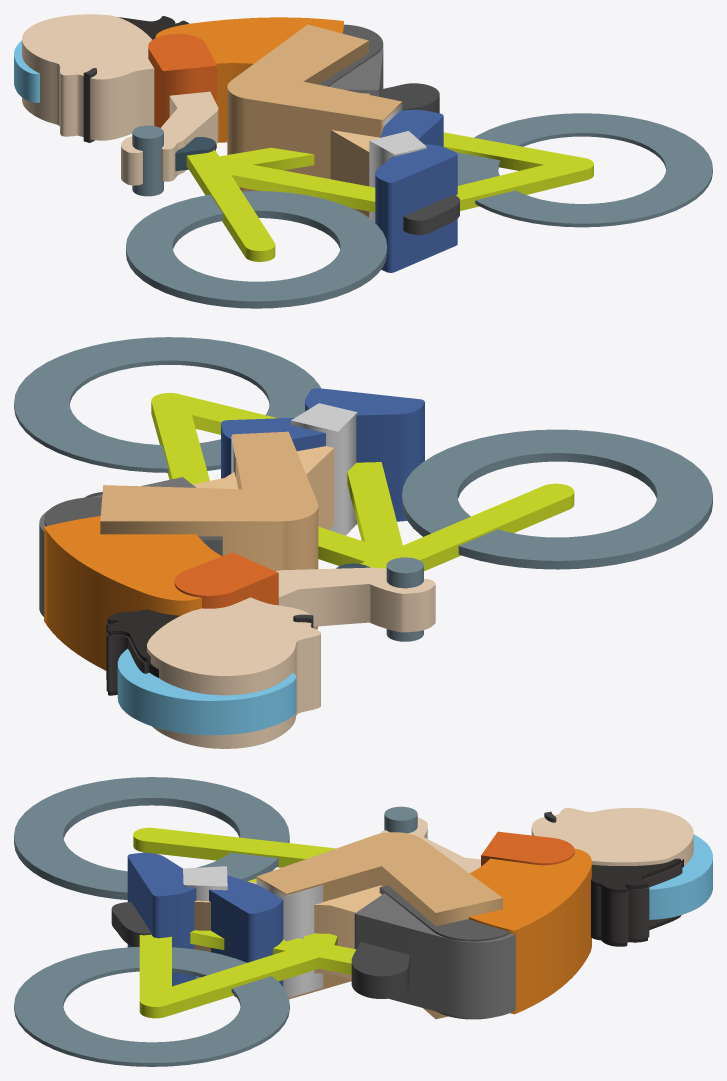
The model's file is emoji_u1f6b4_1f3fb.glb.
3 renders of one model, top to bottom at view 1: azimuth 30°, elevation 25°; view 2: azimuth 150°, elevation 25°; view 3: azimuth 270°, elevation 25°, orthographic. The views are drawn at different scales.
Parts seen in each view (by area): view 1: emoji_u1f6b4_1f3fb; view 2: emoji_u1f6b4_1f3fb; view 3: emoji_u1f6b4_1f3fb.
Part boxes in pixels (x1,y1,x2,y2): emoji_u1f6b4_1f3fb: (14,14,712,308); emoji_u1f6b4_1f3fb: (14,337,712,748); emoji_u1f6b4_1f3fb: (14,777,712,1066).
Size of the model in its own units: 0.0321 by 0.0056 by 0.0334.
